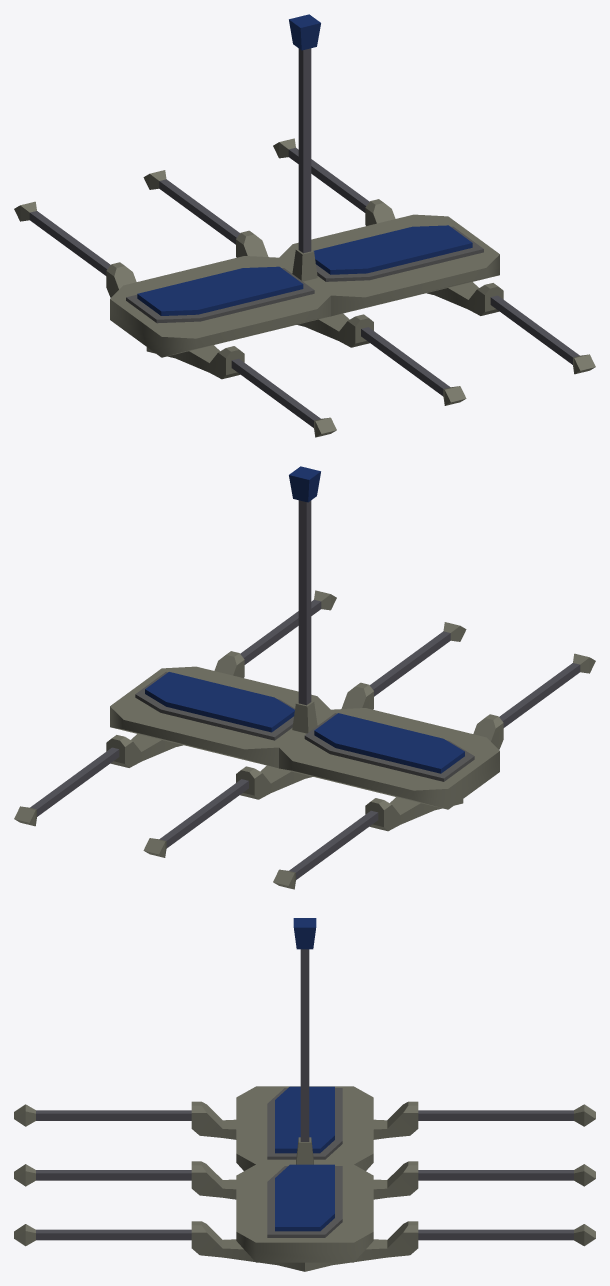
The model's file is LPSciFi_AntennaTop.fbx.
3 renders of one model, top to bottom at view 1: azimuth 30°, elevation 25°; view 2: azimuth 150°, elevation 25°; view 3: azimuth 270°, elevation 25°, orthographic. The views are drawn at different scales.
Parts seen in each view (by area): view 1: AntennaTop; view 2: AntennaTop; view 3: AntennaTop.
Boxes of the visible parts, x1,y1,x2,y2 form: AntennaTop: (14, 14, 595, 437); AntennaTop: (14, 466, 595, 889); AntennaTop: (14, 918, 595, 1271).
Bounding box in the file's own units: 708 × 594 × 1114.
